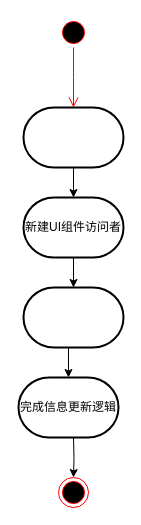
Some shapes in this 141 by 525 pixel diagram are drawn without their labels. The shapes that lost their labels are listed below. From the top down, each one's centre as x and y in pixels, then its label:
the point at 73,137: UI信息需要改变
the point at 73,317: 遍历UI组件，调用访问者相应方法
